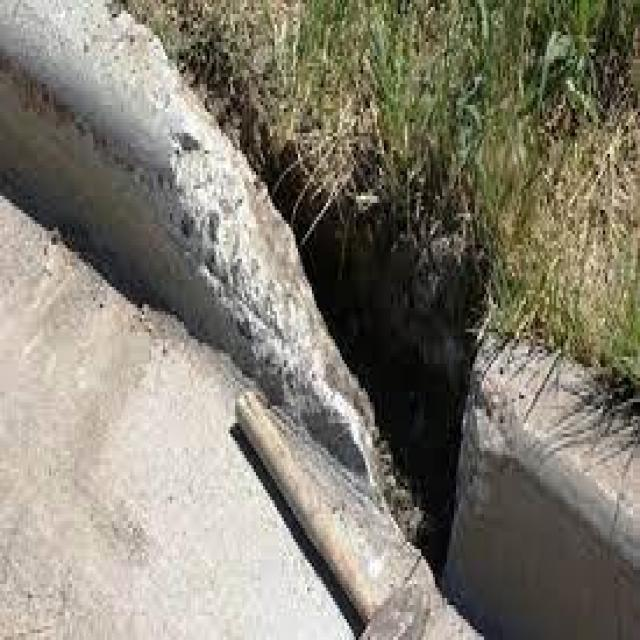curb: (4, 4, 455, 549), (446, 317, 633, 640)
